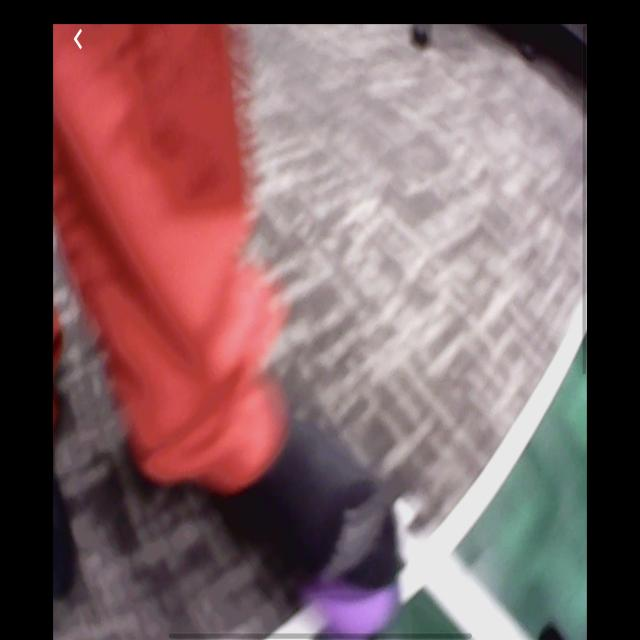ball: (314, 561, 401, 638)
